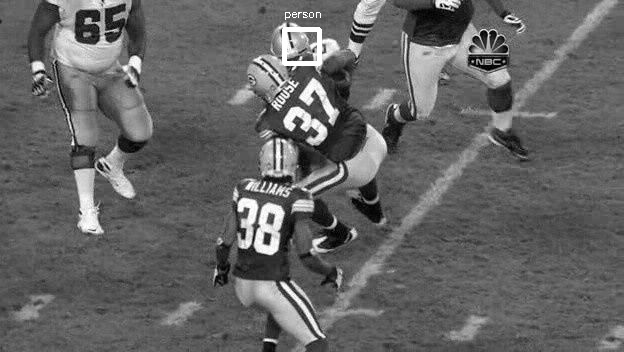person: (274, 36, 308, 79), (273, 36, 307, 79), (275, 36, 309, 79), (274, 35, 308, 78), (274, 37, 308, 80)
target_negative: (150, 44, 568, 273), (117, 11, 557, 190), (112, 138, 573, 274), (199, 9, 454, 80), (250, 286, 375, 288), (599, 350, 607, 351)
